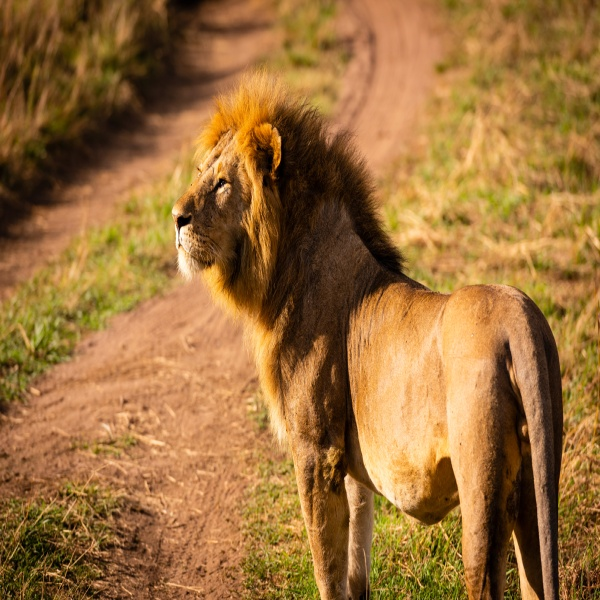Lion: (170, 69, 567, 600)
